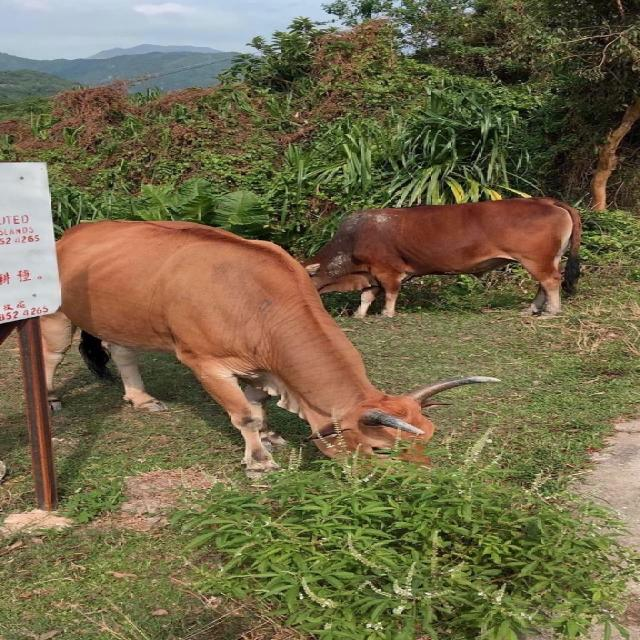cow: (41, 221, 495, 472), (305, 198, 580, 317)
